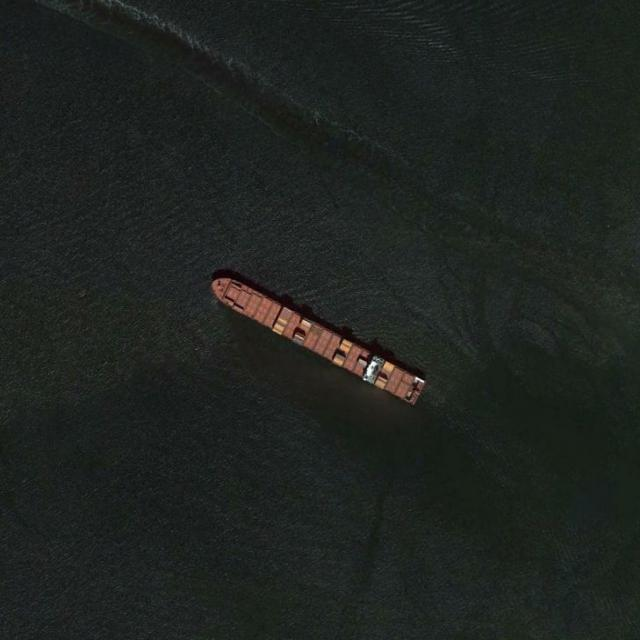ship: (210, 275, 425, 407)
